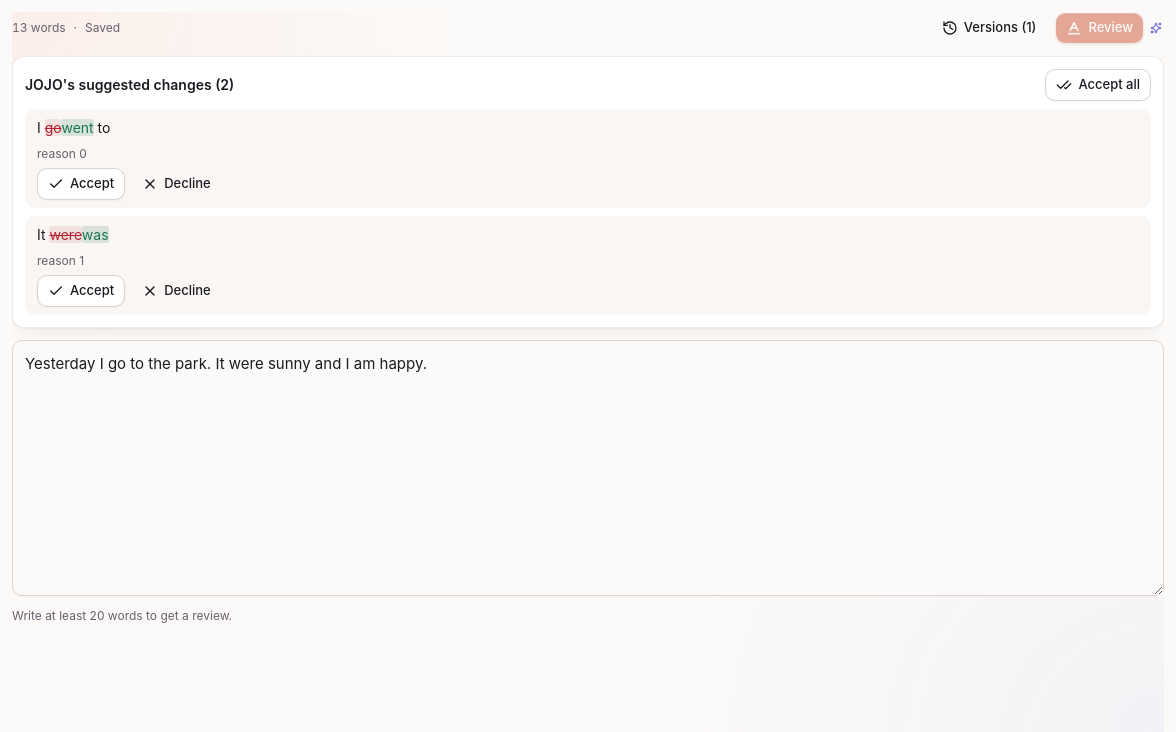
Test: WritingView › accepts one change and declines another; the text is the new version
Click the button with test id "edit-accept". click: {"x": 81, "y": 184}
box: left=37, top=168, right=125, bottom=200
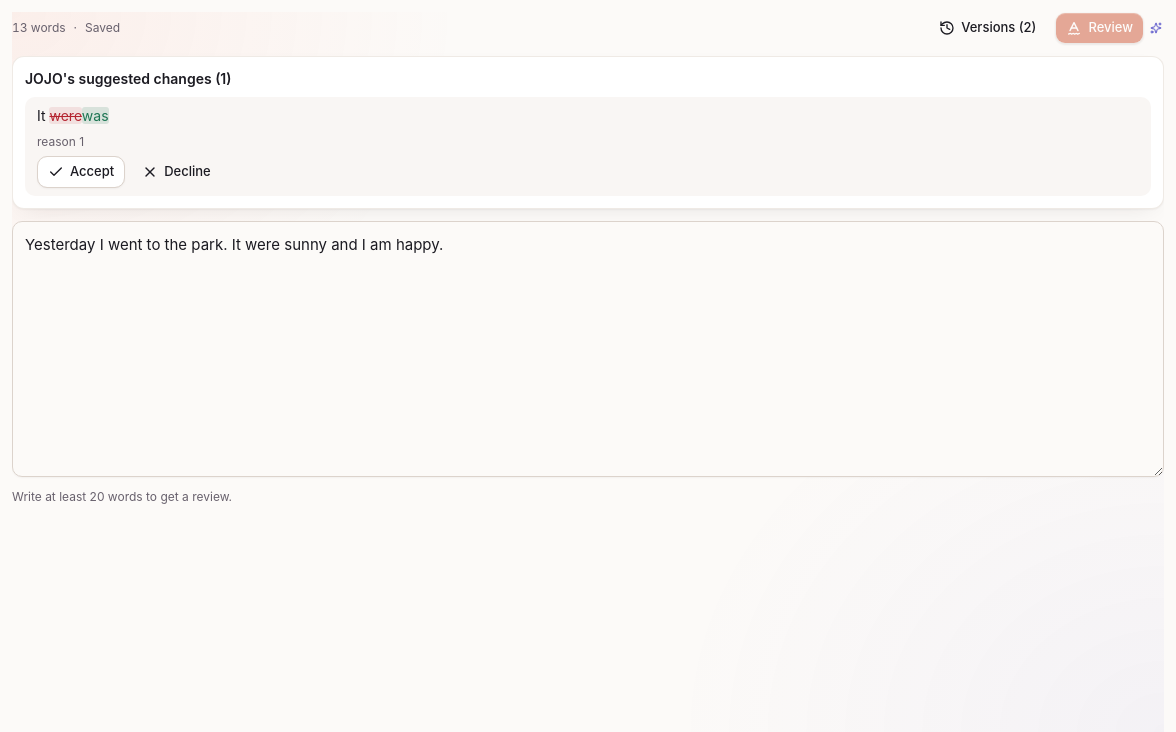
Check: the number of list items with test id "edit-item" is 1, box left=25, top=97, right=1151, bottom=196
Check: the button with test id "edit-accept-all" is gone
Click the button with test id "edit-decline". click: {"x": 176, "y": 172}
box: left=131, top=156, right=222, bottom=188
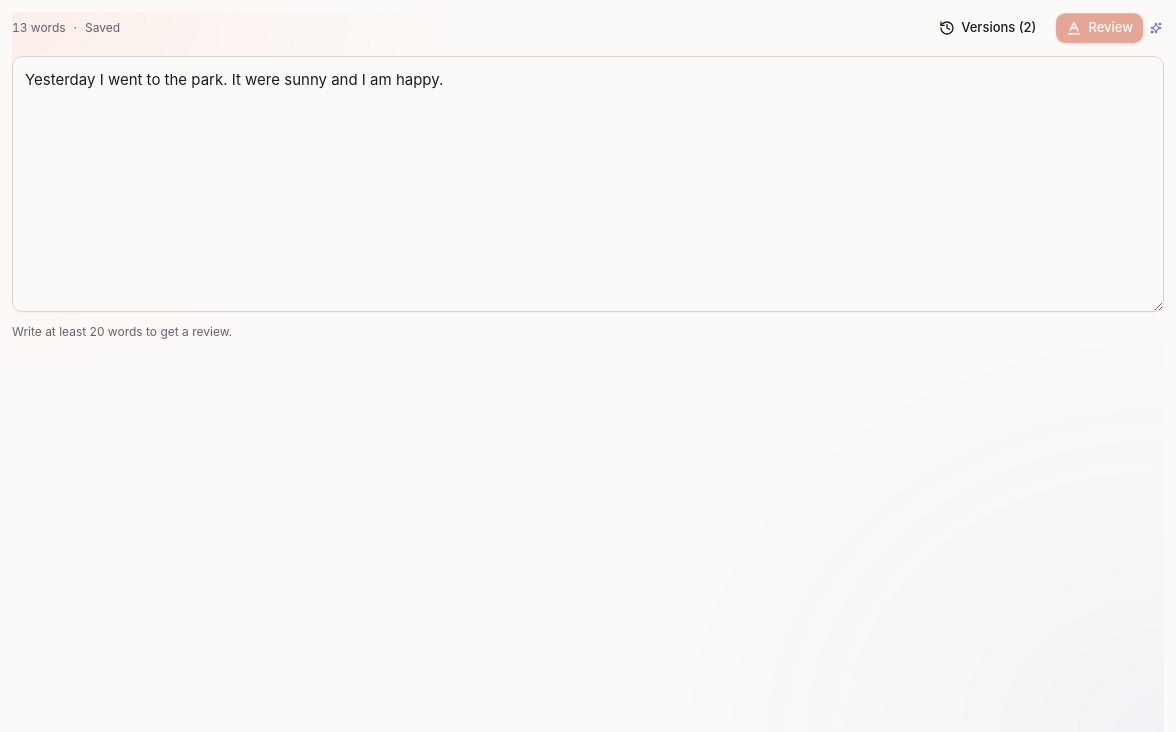
Check: the element with test id "workspace-edits" is gone
